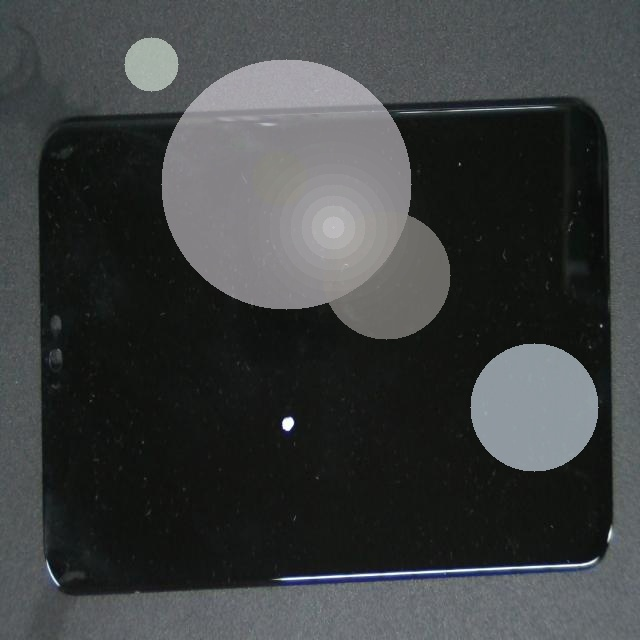stain: (127, 205, 408, 640)
